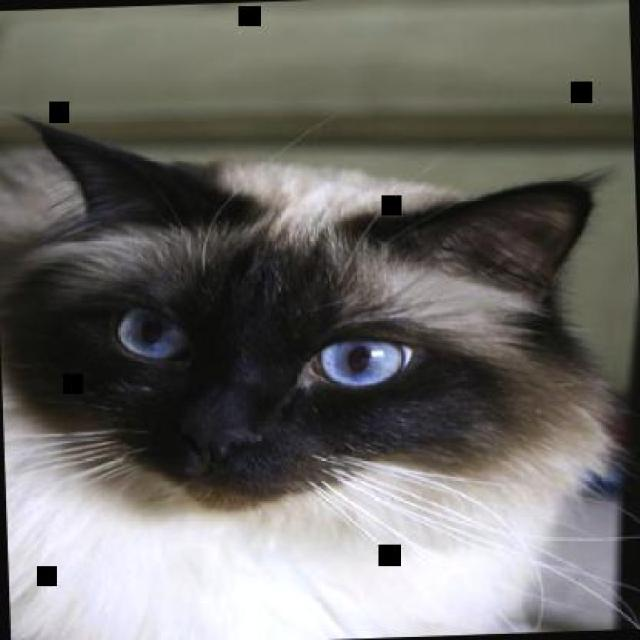cat: (0, 92, 626, 638)
